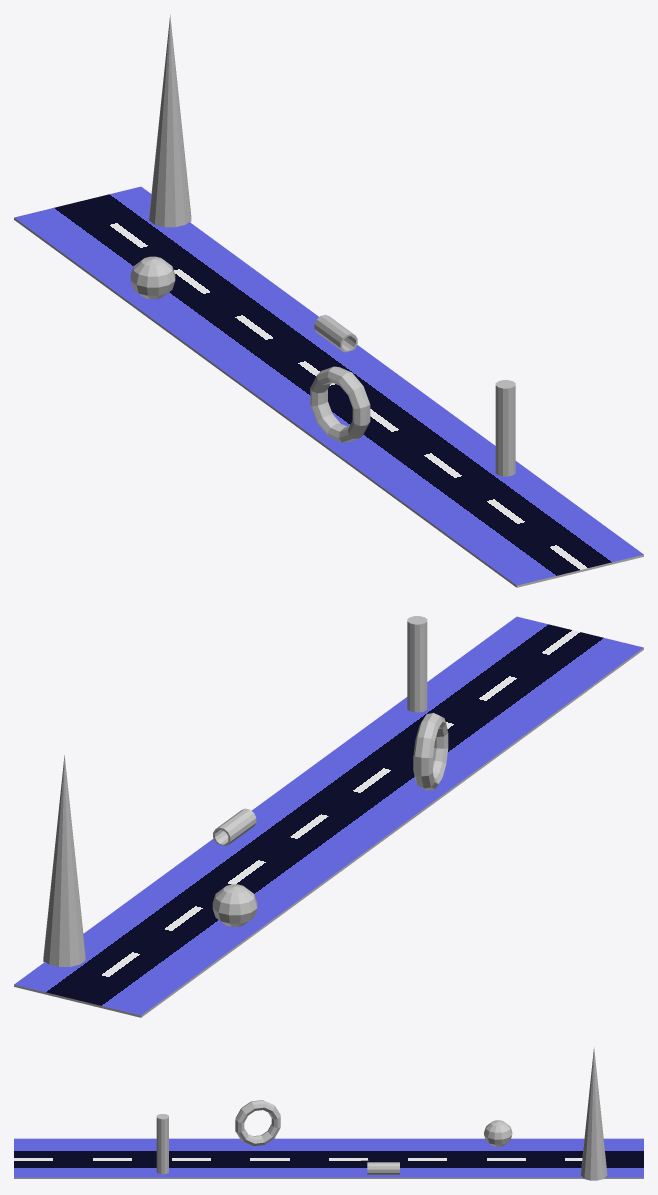
File: Ground.obj
3 renders of one model, top to bottom at view 1: azimuth 30°, elevation 25°; view 2: azimuth 150°, elevation 25°; view 3: azimuth 270°, elevation 25°, orthographic. The views are drawn at different scales.
Visible parts, largest first — view 1: cuboid, cone, torus, cylinder, sphere, tube; view 2: cuboid, cone, torus, cylinder, sphere, tube; view 3: cuboid, cone, torus, cylinder, sphere, tube.
Boxes of the visible parts, left/top/right/bottom form: cuboid: left=14, top=186, right=643, bottom=587; cone: left=149, top=15, right=191, bottom=227; torus: left=310, top=366, right=370, bottom=442; cylinder: left=495, top=380, right=515, bottom=476; sphere: left=130, top=256, right=175, bottom=299; tube: left=314, top=314, right=357, bottom=352; cuboid: left=14, top=616, right=643, bottom=1017; cone: left=43, top=755, right=85, bottom=966; torus: left=413, top=713, right=448, bottom=790; cylinder: left=407, top=616, right=427, bottom=712; sphere: left=212, top=884, right=257, bottom=926; tube: left=213, top=808, right=256, bottom=845; cuboid: left=14, top=1138, right=643, bottom=1178; cone: left=581, top=1047, right=607, bottom=1180; torus: left=235, top=1100, right=280, bottom=1145; cylinder: left=156, top=1114, right=168, bottom=1174; sphere: left=484, top=1120, right=512, bottom=1146; tube: left=367, top=1162, right=399, bottom=1174.
Size of the model in its own units: 7.81 by 11.44 by 50.5.
Materials: 2 (1 with a texture image).
